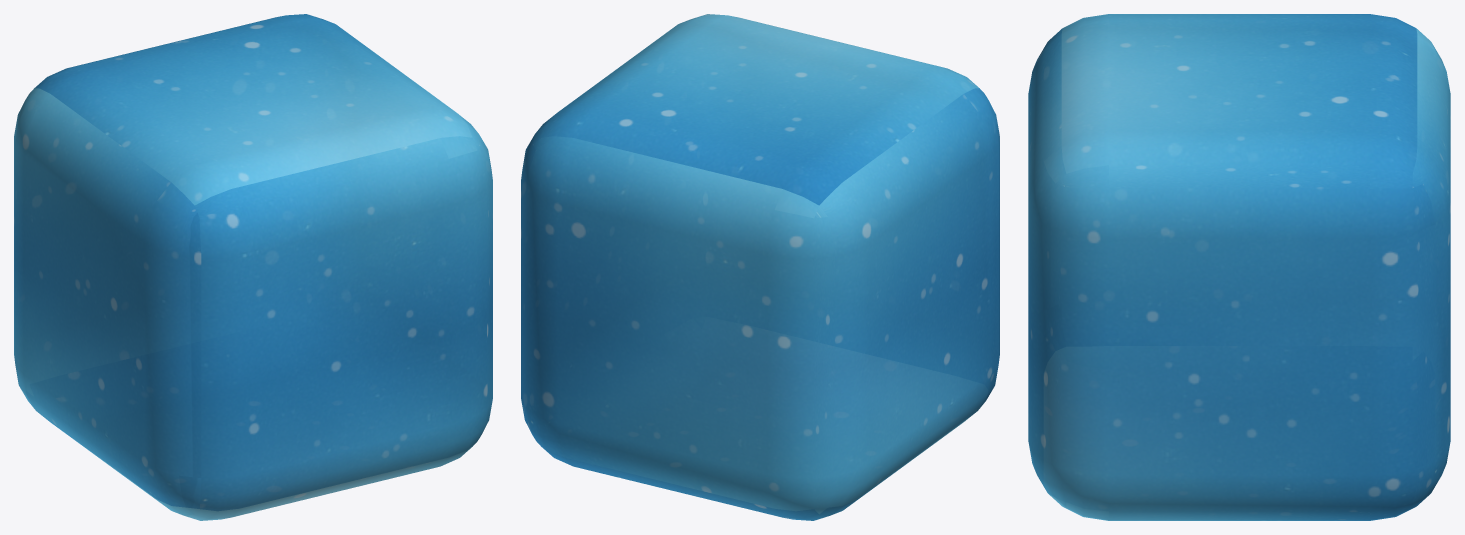
Rendered from rounded_cube.glb.
3 renders of one model, left to right at view 1: azimuth 30°, elevation 25°; view 2: azimuth 150°, elevation 25°; view 3: azimuth 270°, elevation 25°, orthographic. The views are drawn at different scales.
Parts seen in each view (by area): view 1: Cube_Cube_0_4; view 2: Cube_Cube_0_4; view 3: Cube_Cube_0_4.
Boxes of the visible parts, <box> form: Cube_Cube_0_4: <box>14,14,492,520</box>; Cube_Cube_0_4: <box>521,14,999,520</box>; Cube_Cube_0_4: <box>1028,14,1450,520</box>.
Bounding box in the file's own units: 2 × 2 × 2.
Materials: 1 (1 with a texture image).
